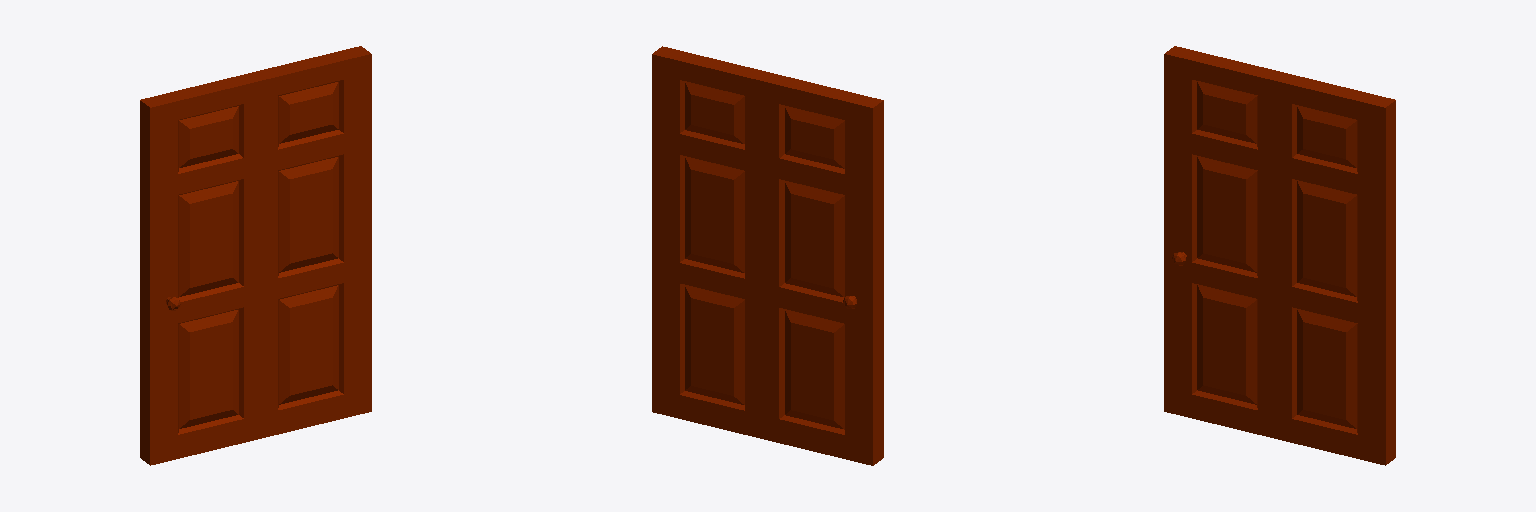
File: Door_Remodel.obj
3 renders of one model, left to right at view 1: azimuth 30°, elevation 25°; view 2: azimuth 150°, elevation 25°; view 3: azimuth 330°, elevation 25°, orthographic.
Visible parts, largest first — view 1: Door_Remodel; view 2: Door_Remodel; view 3: Door_Remodel.
Boxes of the visible parts, box(x1,y1,x2,y2) form: Door_Remodel: box(140, 46, 371, 465); Door_Remodel: box(652, 46, 883, 465); Door_Remodel: box(1164, 46, 1395, 465).
Bounding box in the file's own units: 1.37 × 2.12 × 0.2704.